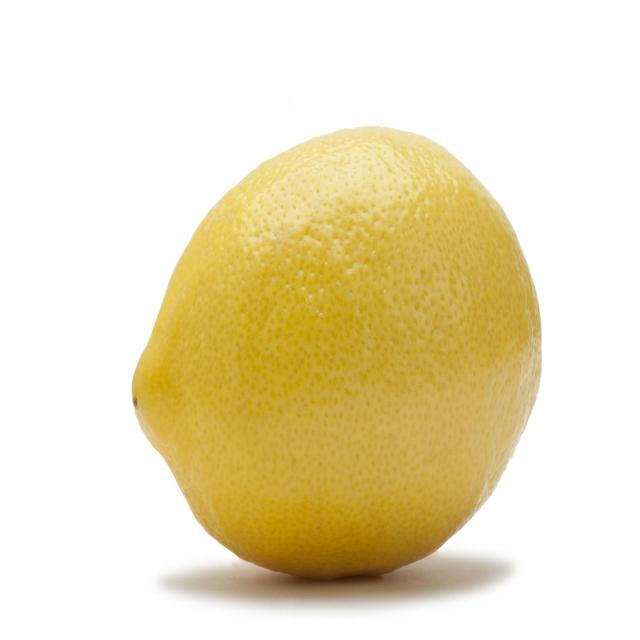lemon: (120, 101, 556, 594)
